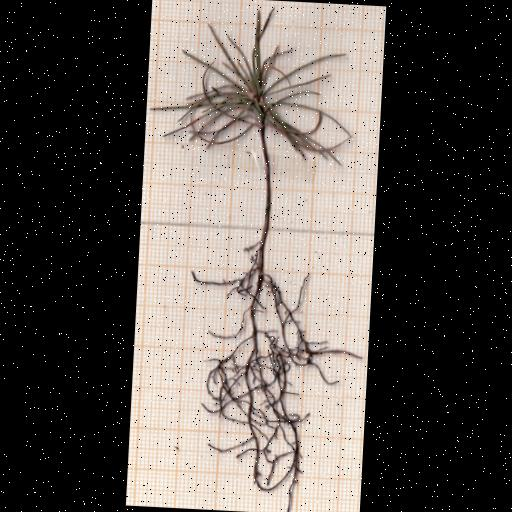flowerCedr: (154, 8, 351, 163)
rootCedr: (193, 254, 360, 512)
stemCedr: (259, 125, 273, 261)
